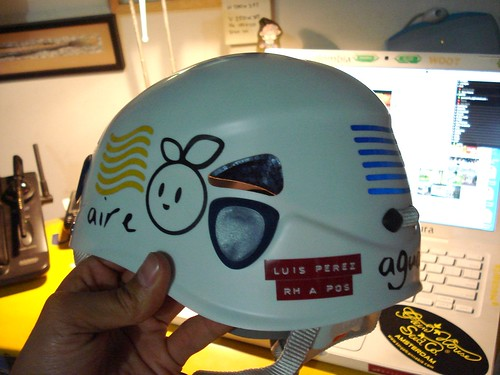helmet: (62, 52, 432, 332)
